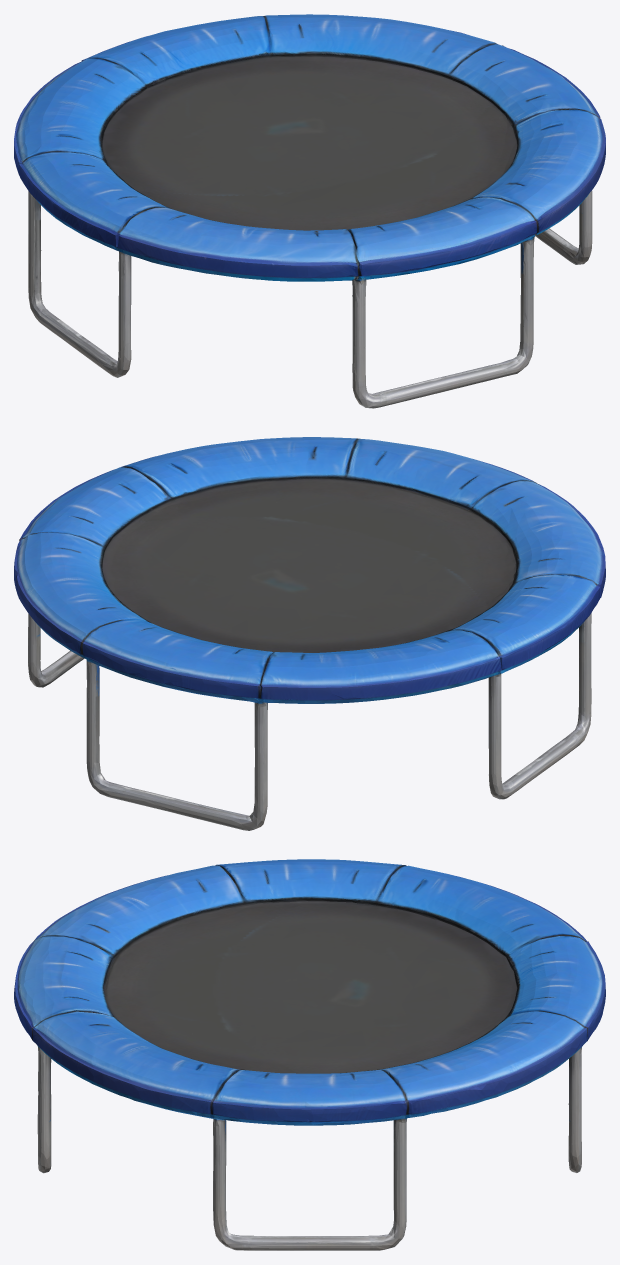
File: Trampoline_Bounce_0502205312_texture.fbx
3 renders of one model, top to bottom at view 1: azimuth 30°, elevation 25°; view 2: azimuth 150°, elevation 25°; view 3: azimuth 270°, elevation 25°, orthographic.
Visible parts, largest first — view 1: temp; view 2: temp; view 3: temp.
Part boxes in pixels (box(x1,y1,x2,y2)): temp: box(14, 14, 605, 408); temp: box(14, 437, 605, 830); temp: box(14, 859, 605, 1250).
Bounding box in the file's own units: 200 × 61.02 × 200.
1 material, 1 textured.
